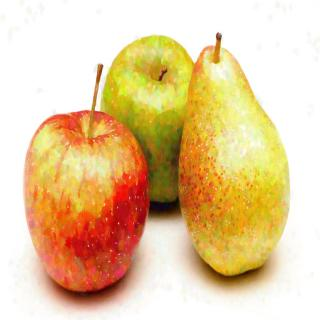Apple: (25, 96, 153, 296), (102, 34, 194, 202)
Pear: (178, 45, 290, 278)
